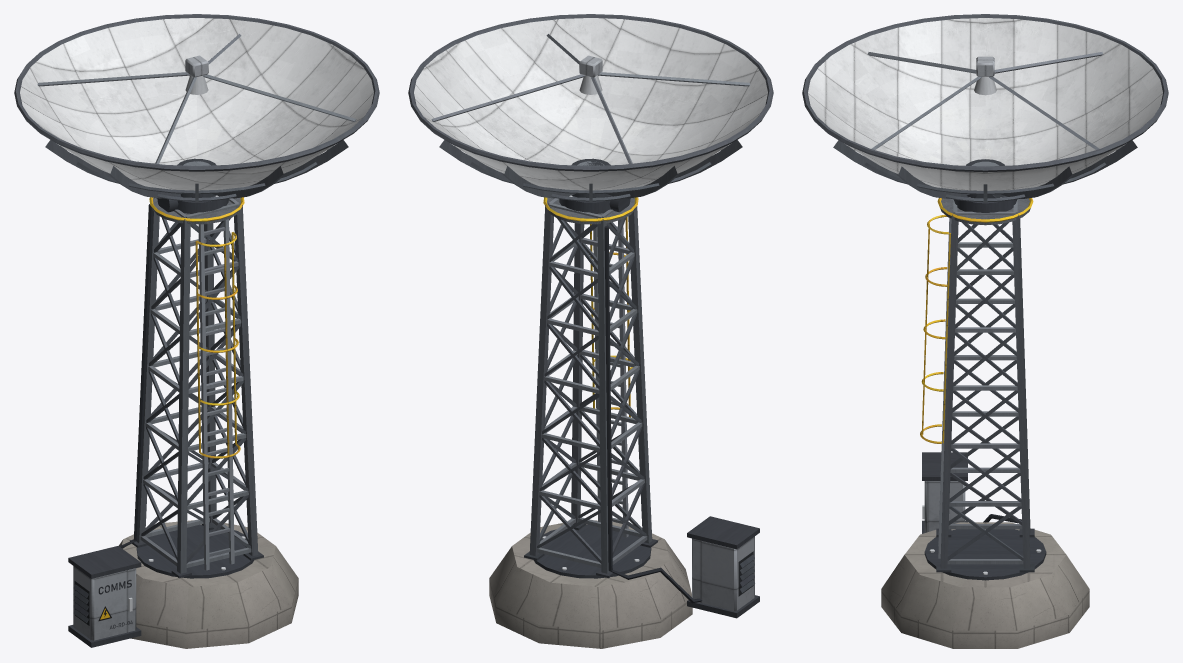
File: radio_dish.glb
3 views of the same model, side by side, from view 1: azimuth 30°, elevation 25°; view 2: azimuth 150°, elevation 25°; view 3: azimuth 270°, elevation 25° (orthographic).
Visible parts, largest first — view 1: dish_body, dish_head; view 2: dish_body, dish_head; view 3: dish_head, dish_body.
Part boxes in pixels (x1=…): dish_body: x1=68, y1=161, x2=298, y2=648; dish_head: x1=14, y1=14, x2=379, y2=212; dish_body: x1=489, y1=161, x2=759, y2=648; dish_head: x1=408, y1=14, x2=773, y2=212; dish_head: x1=802, y1=14, x2=1168, y2=202; dish_body: x1=881, y1=161, x2=1089, y2=648.
Bounding box in the file's own units: 6.34 × 10.44 × 6.34.
7 materials, 5 textured.
